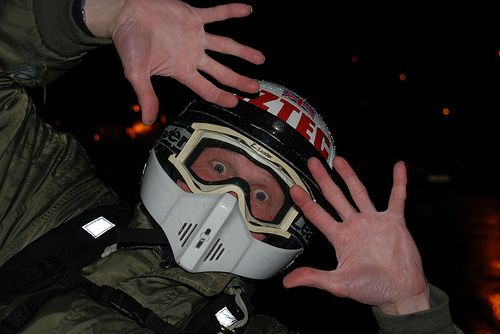helmet: (157, 72, 363, 273)
